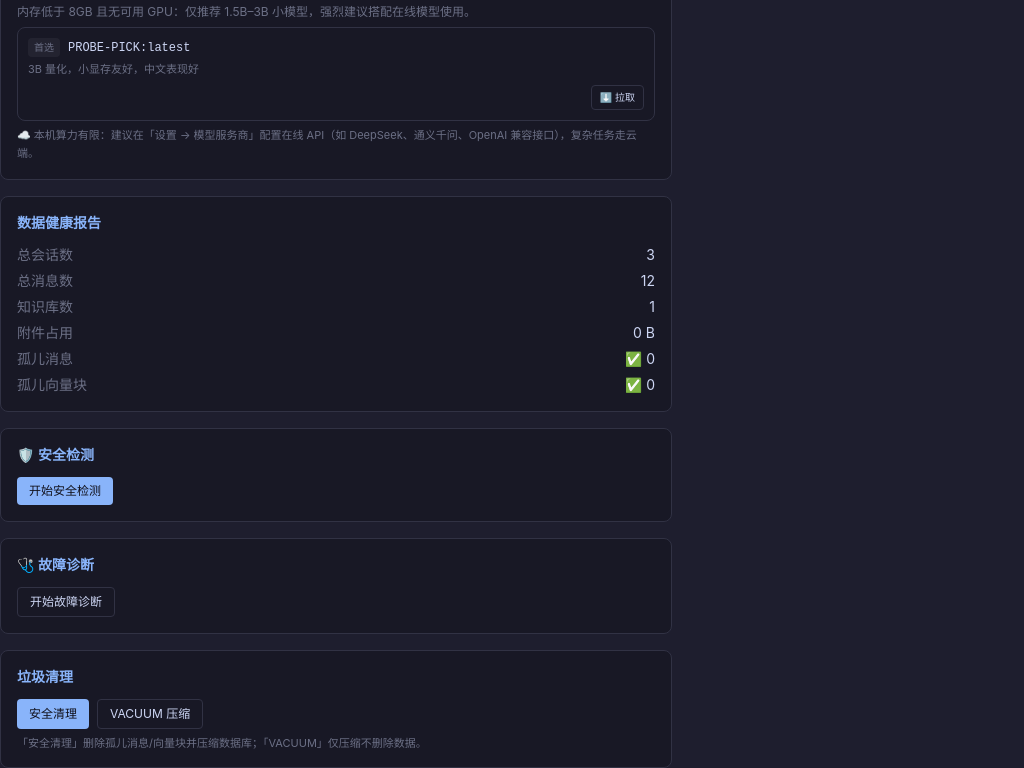
② 两颗用户按下的键：失败得当场说一句 › 点「故障诊断」那一颗同理：失败进 toast，不许只把「诊断中」收掉
(page scrolled)
Expected: the text "PROBE-PICK:latest" is shown, [68,40,190,56]
Click the button "开始故障诊断" at (66, 602), box [17,587,115,617]
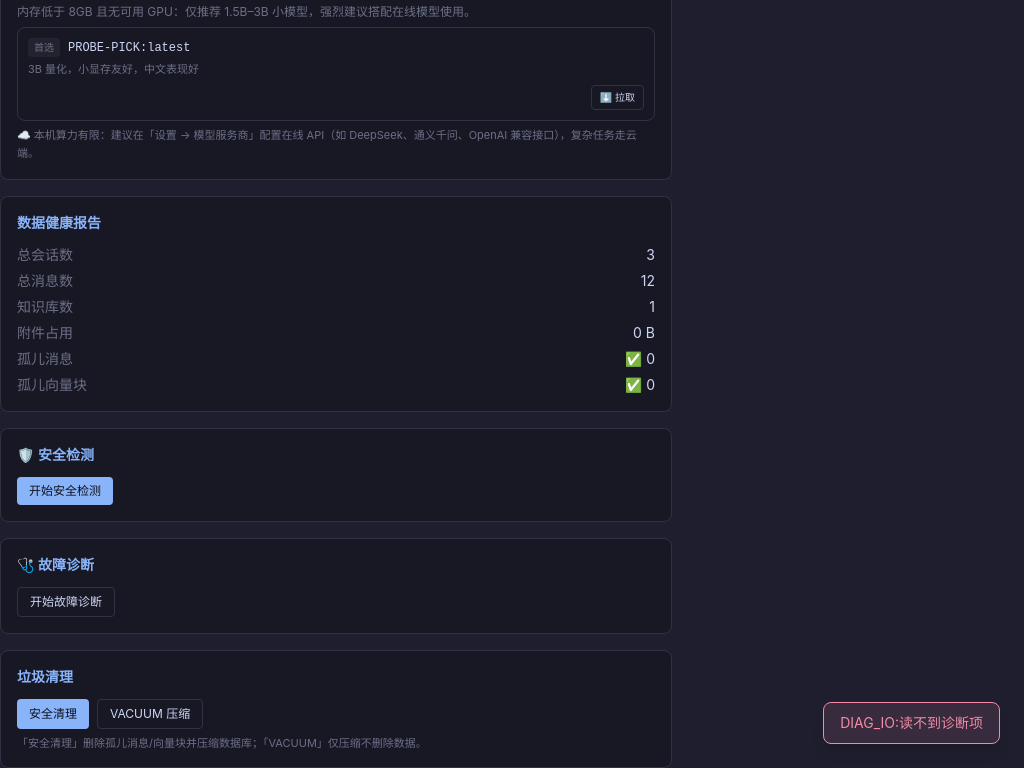
Expected: the message reads "DIAG_IO:读不到诊断项", [840,714,983,731]
